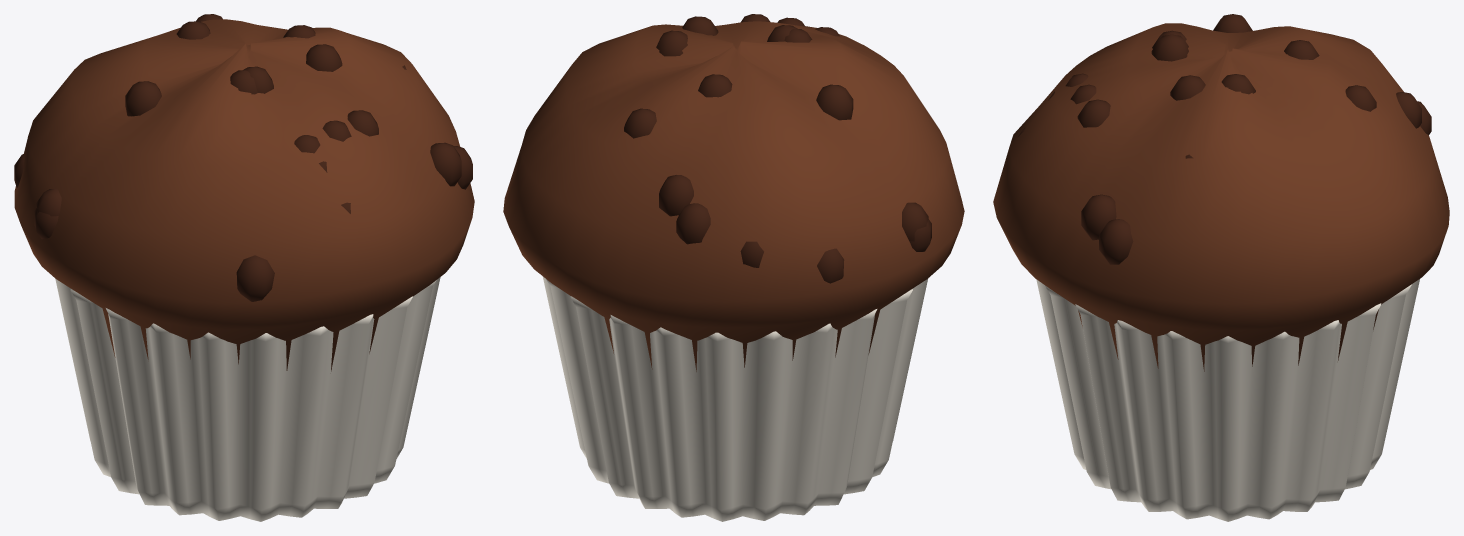
File: chocolate-chip-muffin.glb
The picture shows the model from 3 angles, left to right: view 1: azimuth 30°, elevation 25°; view 2: azimuth 150°, elevation 25°; view 3: azimuth 270°, elevation 25°; orthographic projection.
Visible parts, largest first — view 1: edible_muffin.001, container_wrapper.001, edible_chip.003, edible_chip.021, edible_chip.004, edible_chip, edible_chip.013, edible_chip.014; view 2: edible_muffin.001, container_wrapper.001, edible_chip.016, edible_chip.006, edible_chip.021, edible_chip.008, edible_chip.014, edible_chip.005, edible_chip.010, edible_chip.009; view 3: edible_muffin.001, container_wrapper.001, edible_chip.001, edible_chip.004, edible_chip.012, edible_chip.013, edible_chip, edible_chip.008, edible_chip.016, edible_chip.021, edible_chip.009.
Part boxes in pixels (x1,y1,x2,y2): edible_muffin.001: [14, 19, 474, 371]; container_wrapper.001: [55, 277, 440, 521]; edible_chip.003: [236, 255, 274, 301]; edible_chip.021: [125, 81, 161, 116]; edible_chip.004: [430, 142, 461, 186]; edible_chip: [306, 44, 342, 71]; edible_chip.013: [347, 110, 378, 136]; edible_chip.014: [36, 189, 61, 216]; edible_muffin.001: [503, 21, 964, 371]; container_wrapper.001: [542, 276, 928, 521]; edible_chip.016: [659, 175, 693, 216]; edible_chip.006: [676, 203, 710, 244]; edible_chip.021: [816, 84, 853, 120]; edible_chip.008: [624, 108, 656, 138]; edible_chip.014: [902, 202, 928, 241]; edible_chip.005: [817, 248, 844, 283]; edible_chip.010: [656, 30, 687, 56]; edible_chip.009: [698, 74, 732, 97]; edible_muffin.001: [993, 23, 1449, 371]; container_wrapper.001: [1036, 279, 1419, 521]; edible_chip.001: [1099, 219, 1133, 264]; edible_chip.004: [1081, 194, 1116, 240]; edible_chip.012: [1151, 34, 1188, 61]; edible_chip.013: [1077, 99, 1110, 127]; edible_chip: [1170, 75, 1205, 100]; edible_chip.008: [1345, 85, 1376, 111]; edible_chip.016: [1396, 92, 1421, 128]; edible_chip.021: [1213, 14, 1252, 32]; edible_chip.009: [1284, 40, 1319, 59].
Bounding box in the file's own units: 0.1084 × 0.1083 × 0.108.
